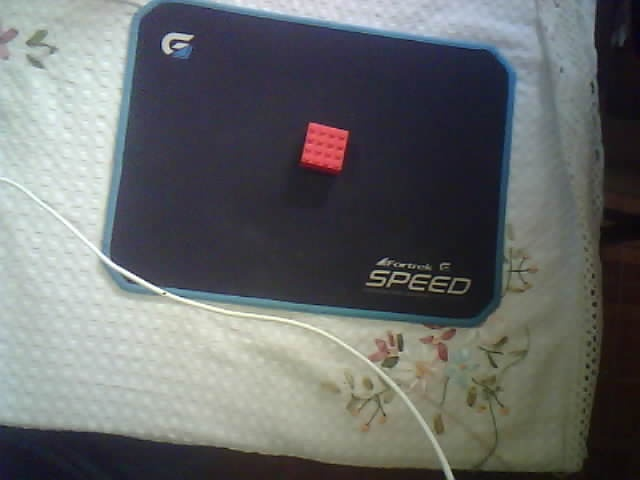lego: (298, 121, 350, 176)
